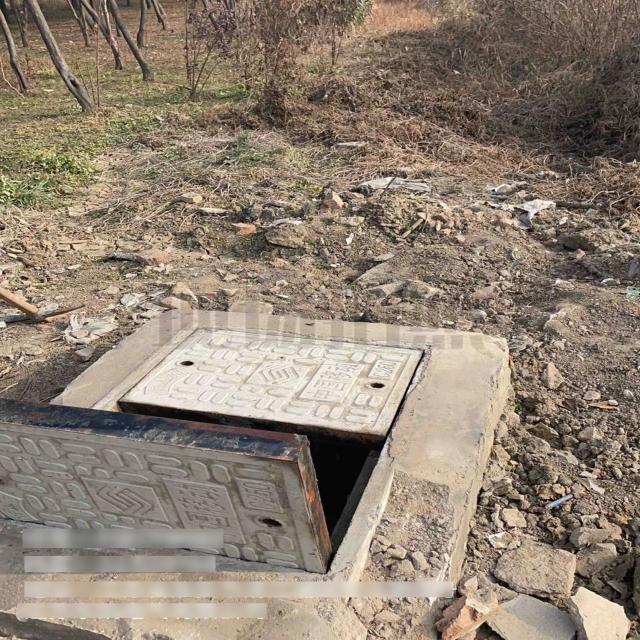Lose: (5, 308, 437, 640)
